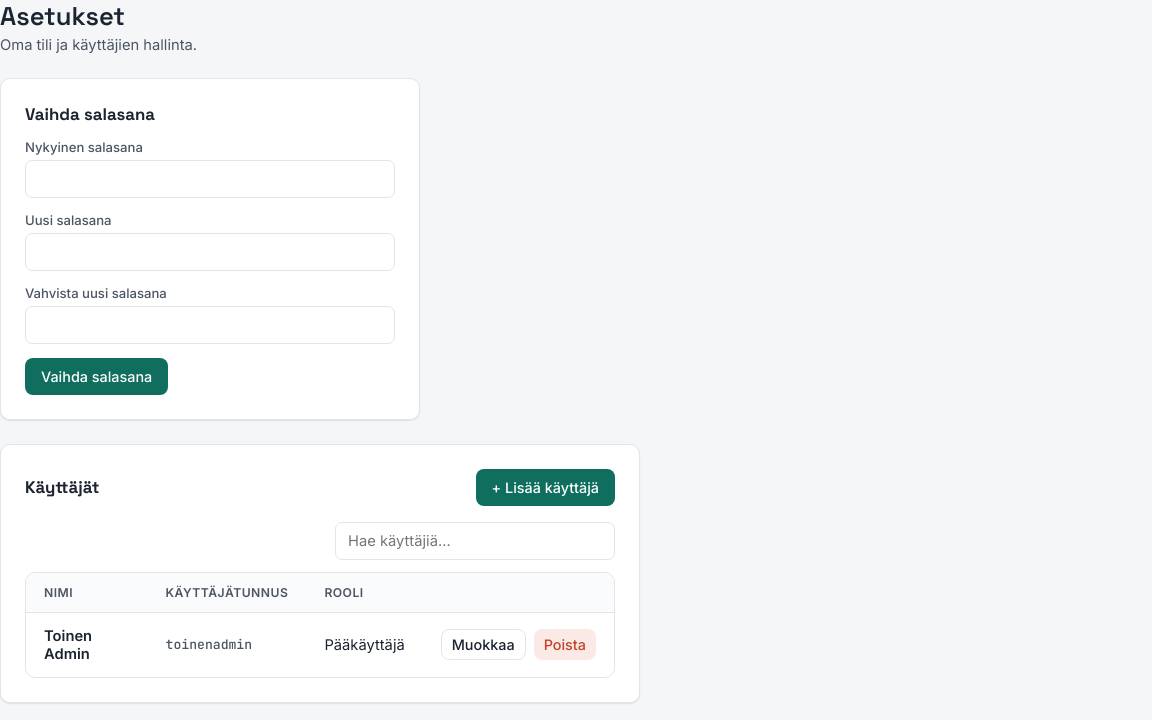
UserManagementCard › näyttää palvelimen virheen jos poisto epäonnistuu (esim. viimeinen admin)
Expected: the text "toinenadmin" is shown, [148,612,306,677]
Click the button "Poista" at {"x": 565, "y": 645}, box [534,629,596,660]
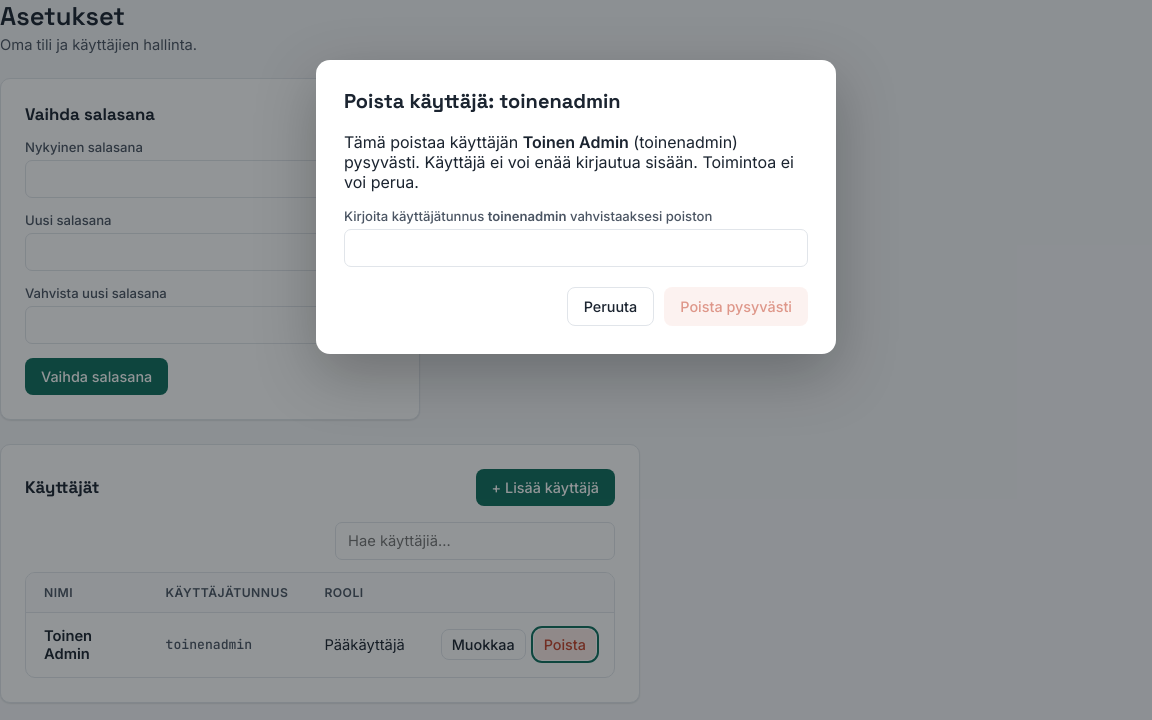
Type "toinenadmin" into the field labelled "Kirjoita käyttäjätunnus toinenadmin vahvistaaksesi poiston" at {"x": 576, "y": 248}, box [344,229,808,267]
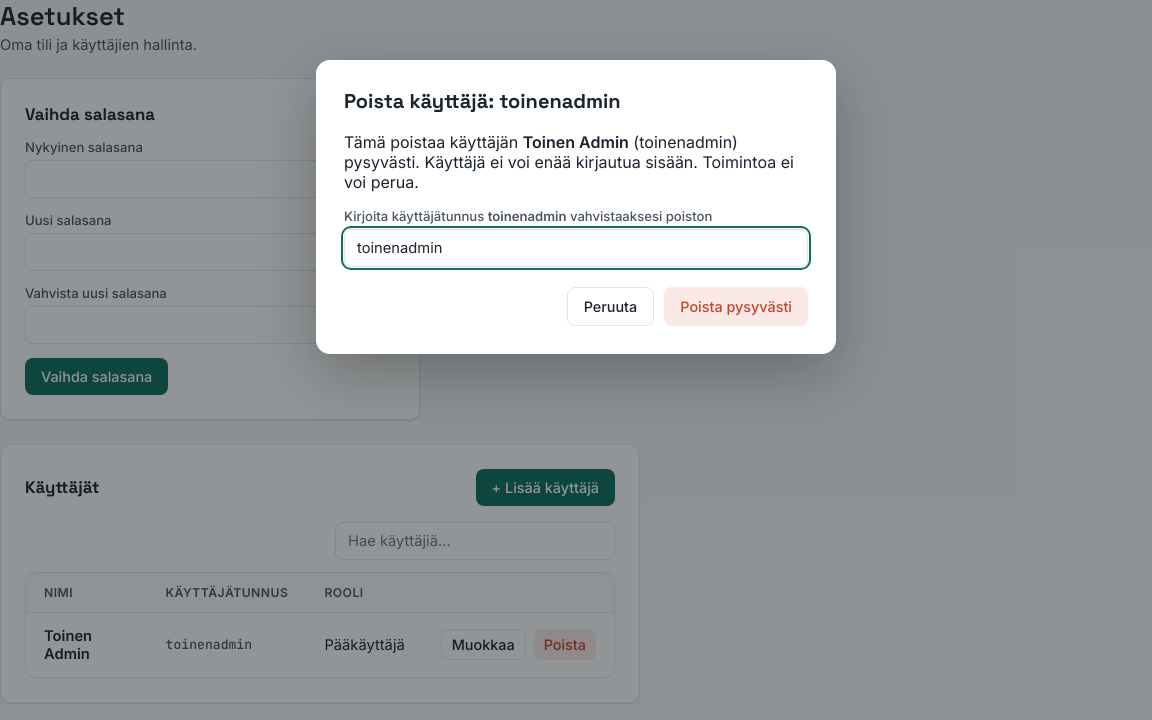
Click the button "Poista pysyvästi" at {"x": 736, "y": 306}, box [664,287,808,326]
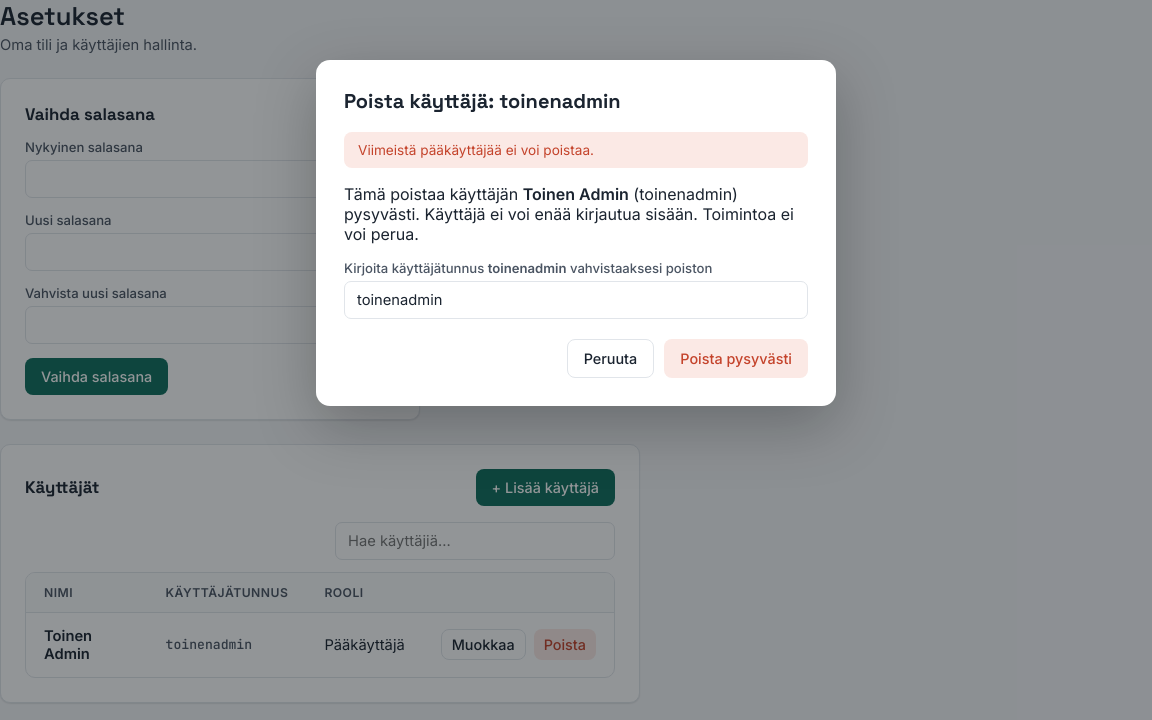
Result: the text "Viimeistä pääkäyttäjää ei voi poistaa." is shown at [344,132,808,168]
